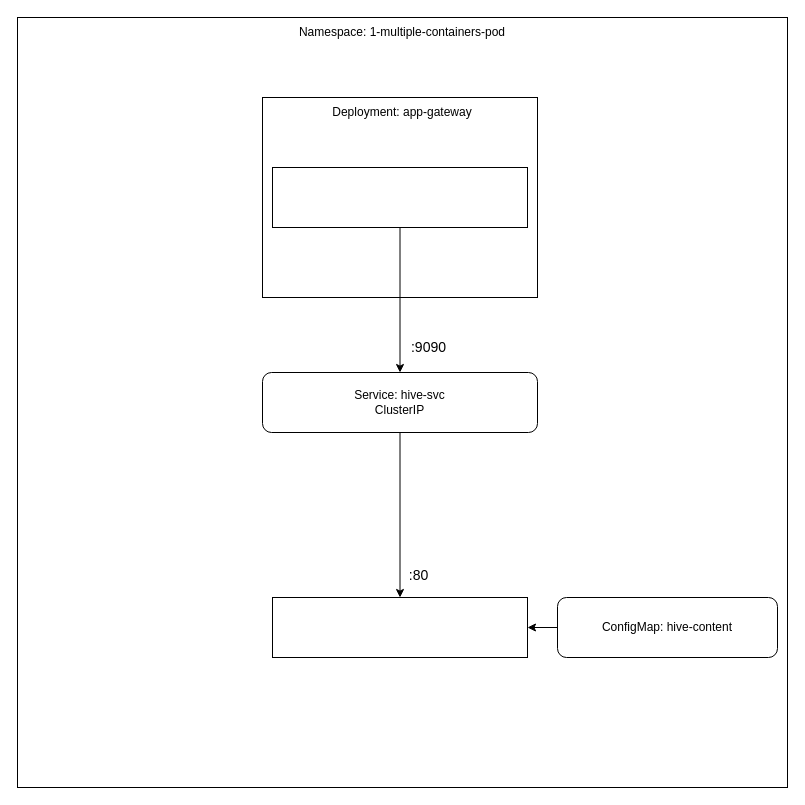
The diagram is 805 pixels wide and 805 high, and some of its shapes have lost their labels. The shapes that lost their labels are listed below. From the top down, each one's box as (x1, y1, x2, y2) in pixels, then its label:
(272, 166, 528, 228): Pod: app-gateway
(272, 596, 528, 658): Pod: hive-web
